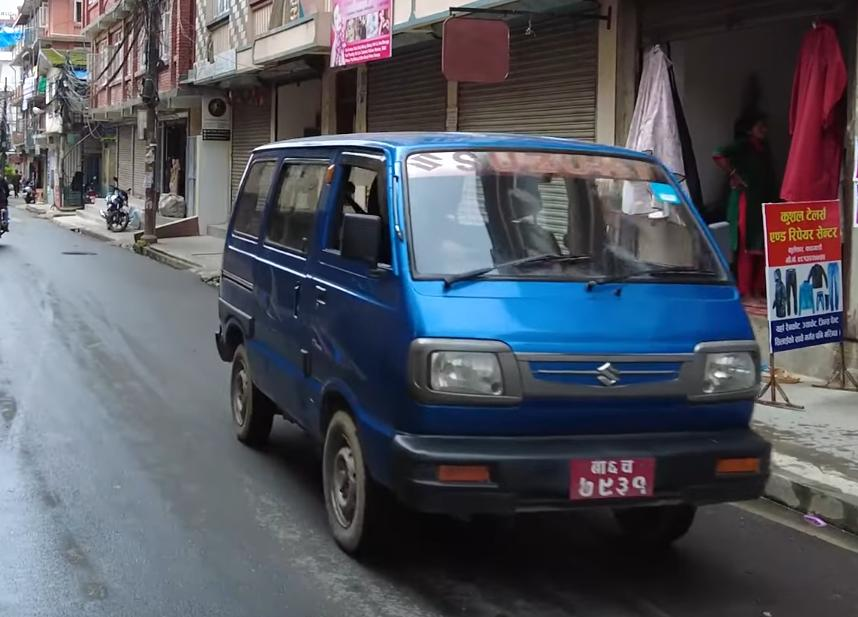van: (201, 122, 774, 573)
